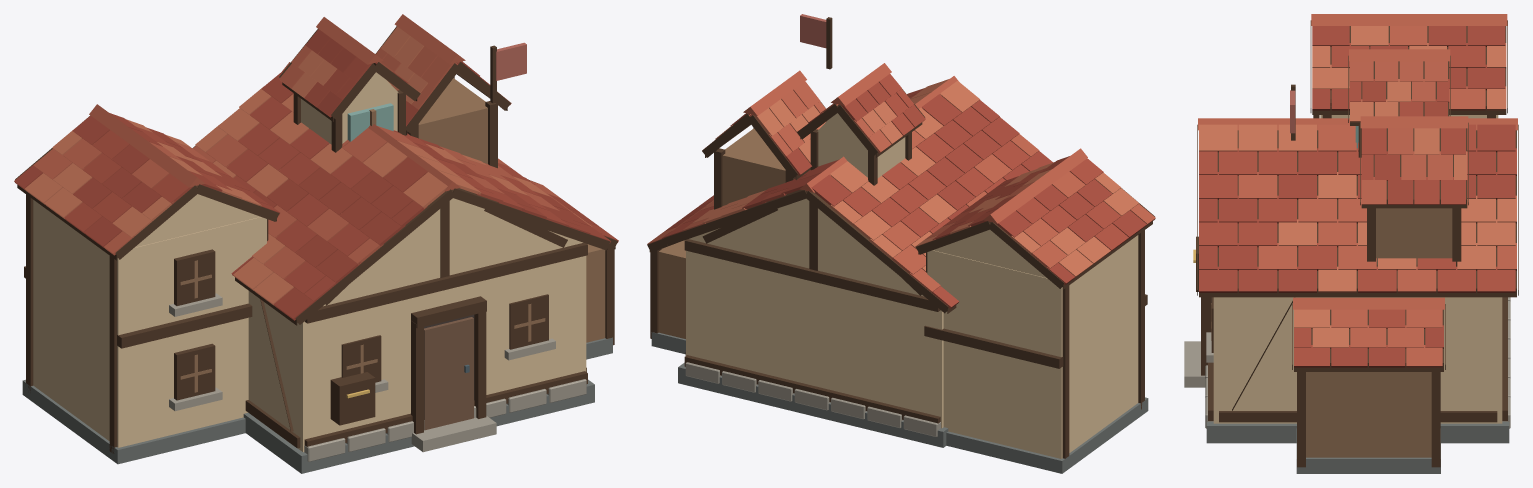
File: ENV_Civic_post_LOD0.glb
The picture shows the model from 3 angles, left to right: view 1: azimuth 30°, elevation 25°; view 2: azimuth 150°, elevation 25°; view 3: azimuth 270°, elevation 25°; orthographic projection. The views are drawn at different scales.
Visible parts, largest first — view 1: ENV_Civic_post_LOD0_stage7_upper_wing_plaster, ENV_Civic_post_LOD0_roof_roofTiles, ENV_Civic_post_LOD0_shell_plaster, ENV_Civic_post_LOD0_stage7_upper_wing_roofTiles, ENV_Civic_post_LOD0_shell_woodDark, ENV_Civic_post_LOD0_stage7_upper_wing_woodDark, ENV_Civic_post_LOD0_stage8_roof_lantern_roofTiles, ENV_Civic_post_LOD0_shell_wood, ENV_Civic_post_LOD0_post_identity_woodDark, ENV_Civic_post_LOD0_post_identity_roofTiles, ENV_Civic_post_LOD0_roof_woodDark, ENV_Civic_post_LOD0_foundation_stoneDark (+11 smaller); view 2: ENV_Civic_post_LOD0_shell_plaster, ENV_Civic_post_LOD0_stage7_upper_wing_plaster, ENV_Civic_post_LOD0_roof_roofTiles, ENV_Civic_post_LOD0_stage7_upper_wing_roofTiles, ENV_Civic_post_LOD0_shell_woodDark, ENV_Civic_post_LOD0_stage7_upper_wing_woodDark, ENV_Civic_post_LOD0_stage8_roof_lantern_roofTiles, ENV_Civic_post_LOD0_post_identity_roofTiles, ENV_Civic_post_LOD0_foundation_stone, ENV_Civic_post_LOD0_post_identity_woodLight, ENV_Civic_post_LOD0_stage7_upper_wing_stoneDark, ENV_Civic_post_LOD0_roof_woodDark (+8 smaller); view 3: ENV_Civic_post_LOD0_roof_roofTiles, ENV_Civic_post_LOD0_shell_plaster, ENV_Civic_post_LOD0_stage7_upper_wing_roofTiles, ENV_Civic_post_LOD0_stage5_shed_woodLight, ENV_Civic_post_LOD0_stage5_shed_roofTiles, ENV_Civic_post_LOD0_post_identity_roofTiles, ENV_Civic_post_LOD0_stage8_roof_lantern_roofTiles, ENV_Civic_post_LOD0_post_identity_woodLight, ENV_Civic_post_LOD0_shell_woodDark, ENV_Civic_post_LOD0_roof_woodDark, ENV_Civic_post_LOD0_foundation_stoneDark, ENV_Civic_post_LOD0_stage5_shed_woodDark (+6 smaller).
Boxes of the visible parts, left/top/right/bottom form: ENV_Civic_post_LOD0_stage7_upper_wing_plaster: left=33, top=194, right=266, bottom=447; ENV_Civic_post_LOD0_roof_roofTiles: left=193, top=62, right=610, bottom=320; ENV_Civic_post_LOD0_shell_plaster: left=248, top=198, right=586, bottom=452; ENV_Civic_post_LOD0_stage7_upper_wing_roofTiles: left=14, top=104, right=279, bottom=255; ENV_Civic_post_LOD0_shell_woodDark: left=245, top=201, right=587, bottom=448; ENV_Civic_post_LOD0_stage7_upper_wing_woodDark: left=15, top=115, right=279, bottom=453; ENV_Civic_post_LOD0_stage8_roof_lantern_roofTiles: left=279, top=17, right=421, bottom=117; ENV_Civic_post_LOD0_shell_wood: left=424, top=317, right=473, bottom=430; ENV_Civic_post_LOD0_post_identity_woodDark: left=330, top=26, right=510, bottom=425; ENV_Civic_post_LOD0_post_identity_roofTiles: left=375, top=14, right=511, bottom=126; ENV_Civic_post_LOD0_roof_woodDark: left=192, top=145, right=609, bottom=325; ENV_Civic_post_LOD0_foundation_stoneDark: left=243, top=379, right=594, bottom=473; ENV_Civic_post_LOD0_shell_plaster: left=686, top=198, right=943, bottom=428; ENV_Civic_post_LOD0_stage7_upper_wing_plaster: left=927, top=229, right=1138, bottom=458; ENV_Civic_post_LOD0_roof_roofTiles: left=664, top=76, right=1052, bottom=308; ENV_Civic_post_LOD0_stage7_upper_wing_roofTiles: left=915, top=148, right=1155, bottom=284; ENV_Civic_post_LOD0_shell_woodDark: left=684, top=201, right=940, bottom=423; ENV_Civic_post_LOD0_stage7_upper_wing_woodDark: left=916, top=188, right=1154, bottom=458; ENV_Civic_post_LOD0_stage8_roof_lantern_roofTiles: left=797, top=63, right=925, bottom=153; ENV_Civic_post_LOD0_post_identity_roofTiles: left=702, top=70, right=826, bottom=175; ENV_Civic_post_LOD0_foundation_stone: left=685, top=362, right=940, bottom=436; ENV_Civic_post_LOD0_post_identity_woodLight: left=722, top=128, right=785, bottom=205; ENV_Civic_post_LOD0_stage7_upper_wing_stoneDark: left=946, top=397, right=1148, bottom=473; ENV_Civic_post_LOD0_roof_woodDark: left=664, top=189, right=956, bottom=313; ENV_Civic_post_LOD0_roof_roofTiles: left=1198, top=118, right=1517, bottom=292; ENV_Civic_post_LOD0_shell_plaster: left=1213, top=297, right=1502, bottom=423; ENV_Civic_post_LOD0_stage7_upper_wing_roofTiles: left=1311, top=14, right=1507, bottom=110; ENV_Civic_post_LOD0_stage5_shed_woodLight: left=1306, top=372, right=1431, bottom=457; ENV_Civic_post_LOD0_stage5_shed_roofTiles: left=1293, top=297, right=1444, bottom=367; ENV_Civic_post_LOD0_post_identity_roofTiles: left=1360, top=116, right=1468, bottom=204; ENV_Civic_post_LOD0_stage8_roof_lantern_roofTiles: left=1349, top=49, right=1450, bottom=122; ENV_Civic_post_LOD0_post_identity_woodLight: left=1376, top=208, right=1452, bottom=264; ENV_Civic_post_LOD0_shell_woodDark: left=1201, top=297, right=1507, bottom=422; ENV_Civic_post_LOD0_roof_woodDark: left=1197, top=124, right=1518, bottom=297; ENV_Civic_post_LOD0_foundation_stoneDark: left=1206, top=422, right=1509, bottom=443; ENV_Civic_post_LOD0_stage5_shed_woodDark: left=1292, top=304, right=1445, bottom=467.
Size of the model in its own units: 8.76 by 5.68 by 5.22.
